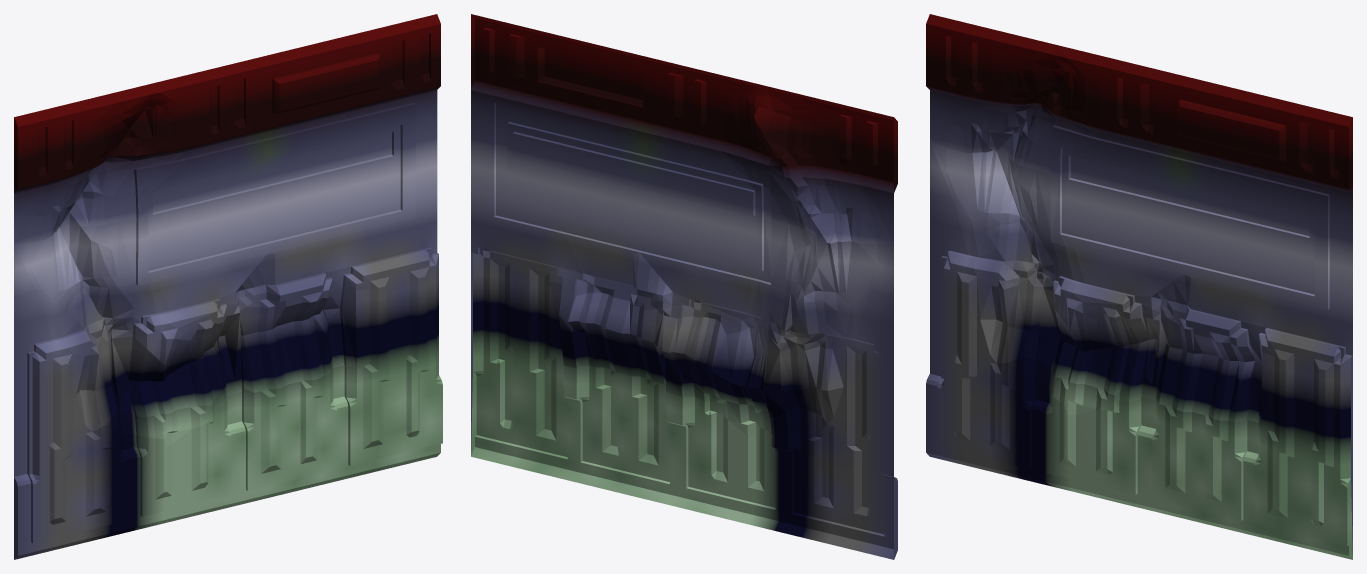
The model's file is sci1_7d.fbx.
The picture shows the model from 3 angles, left to right: view 1: azimuth 30°, elevation 25°; view 2: azimuth 150°, elevation 25°; view 3: azimuth 330°, elevation 25°; orthographic projection.
Visible parts, largest first — view 1: sci1_7d; view 2: sci1_7d; view 3: sci1_7d.
Boxes of the visible parts, x1=… form: sci1_7d: x1=14, y1=14, x2=442, y2=559; sci1_7d: x1=471, y1=14, x2=897, y2=559; sci1_7d: x1=926, y1=14, x2=1352, y2=559.
Bounding box in the file's own units: 256 × 256 × 19.22.
